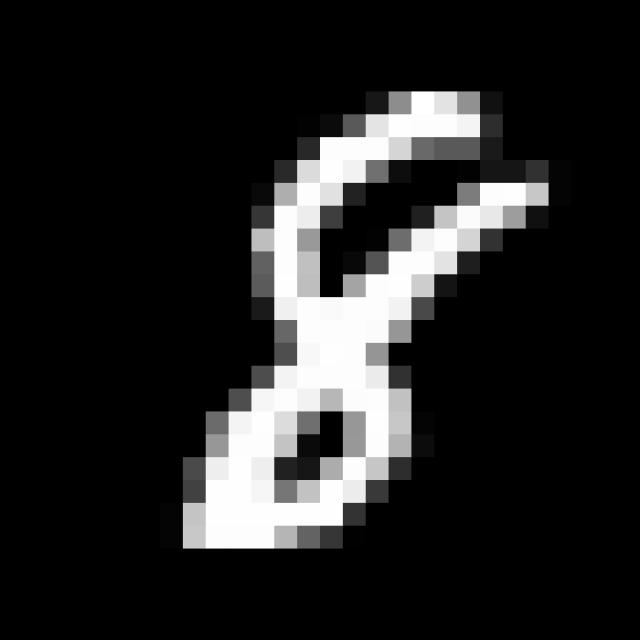eight -8-: (180, 89, 561, 551)
